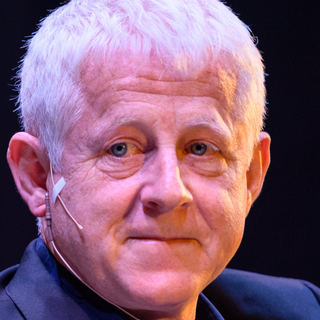eye: (97, 134, 146, 166), (176, 135, 225, 162)
